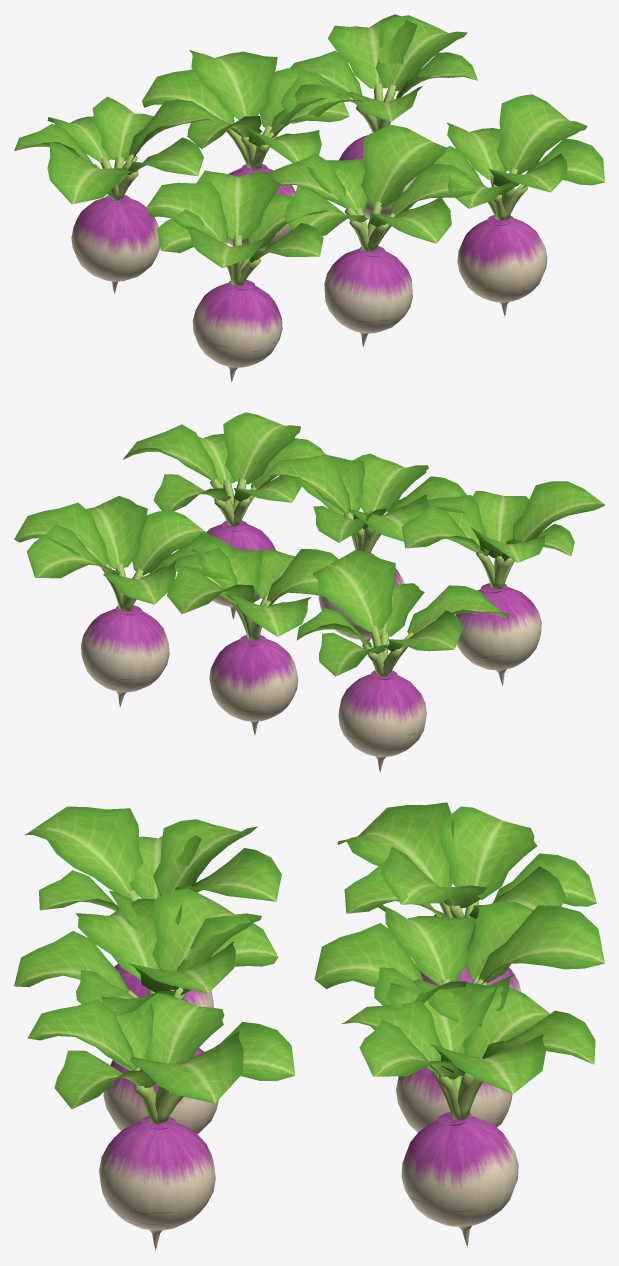
File: crop_turnip_3.glb
The picture shows the model from 3 angles, top to bottom: view 1: azimuth 30°, elevation 25°; view 2: azimuth 150°, elevation 25°; view 3: azimuth 270°, elevation 25°; orthographic projection. The views are drawn at different scales.
Visible parts, largest first — view 1: model; view 2: model; view 3: model.
Part boxes in pixels (x1=…): model: x1=14, y1=14, x2=604, y2=382; model: x1=14, y1=412, x2=604, y2=772; model: x1=14, y1=802, x2=604, y2=1251.
Bounding box in the file's own units: 0.9921 × 0.3958 × 0.8534.
3 materials, 2 textured.
